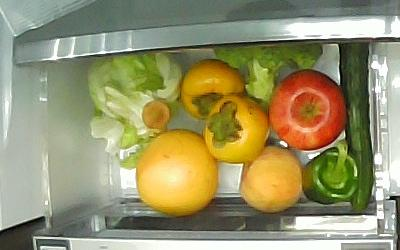apple: (267, 69, 345, 150)
broccoli: (213, 41, 323, 104)
cucumber: (338, 40, 374, 213)
grapefruit: (136, 129, 219, 214)
lettuce: (86, 51, 183, 154)
paprika: (302, 139, 358, 204)
peach: (238, 145, 304, 213)
persimmon: (204, 94, 271, 164), (180, 58, 246, 118)
